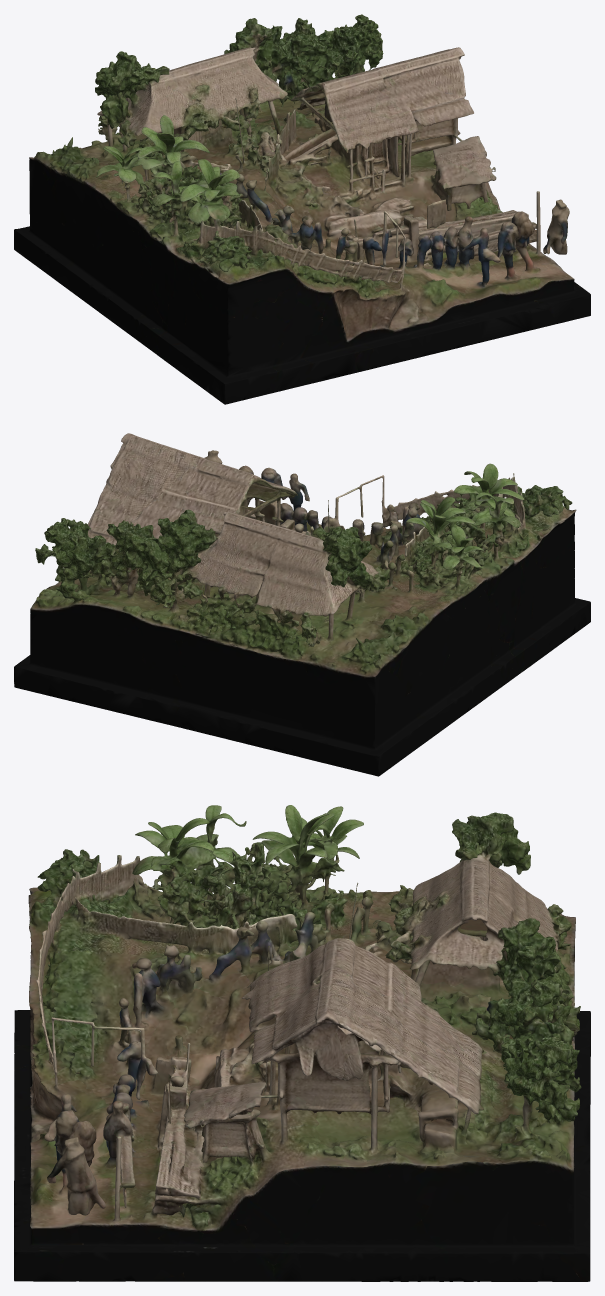
Rendered from Tập luyện Việt Bắc Thu đông.glb.
3 views of the same model, one above another, from view 1: azimuth 30°, elevation 25°; view 2: azimuth 150°, elevation 25°; view 3: azimuth 270°, elevation 25° (orthographic). The views are drawn at different scales.
Size of the model in its own units: 1.8 by 0.9279 by 1.76.
1 material, 1 textured.
